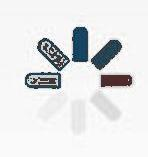ProgressBar: (1, 1, 147, 156)
